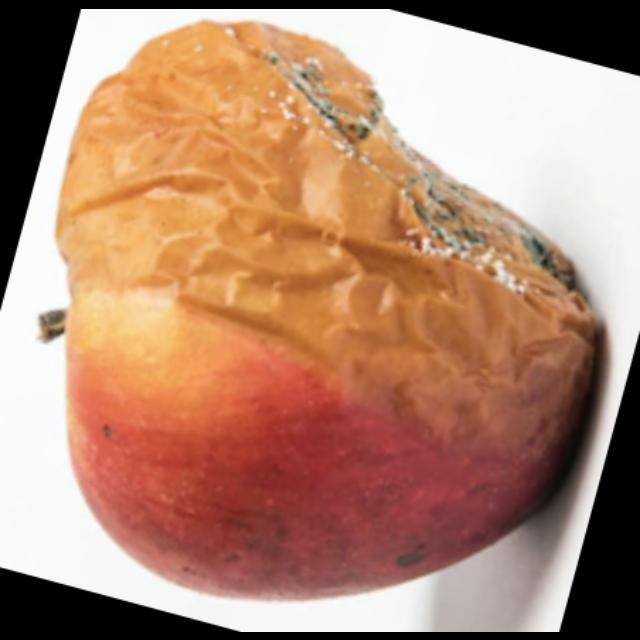Apel Tidak Segar: (58, 8, 602, 616)
